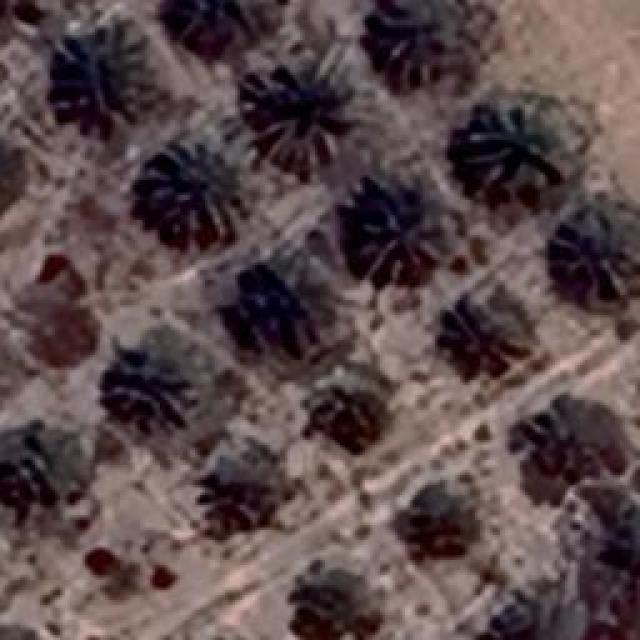PalmTree: (34, 67, 100, 474), (140, 130, 250, 238), (52, 19, 160, 122), (252, 65, 346, 173), (516, 396, 622, 486), (462, 102, 568, 190), (235, 250, 328, 350), (370, 0, 475, 80), (355, 192, 443, 278), (552, 215, 638, 303), (300, 550, 372, 640), (438, 302, 512, 376), (402, 494, 478, 566), (118, 351, 198, 419), (100, 25, 222, 67), (304, 370, 376, 438), (210, 446, 275, 519), (589, 518, 640, 604), (492, 593, 582, 640), (0, 128, 25, 220), (0, 129, 18, 219)
